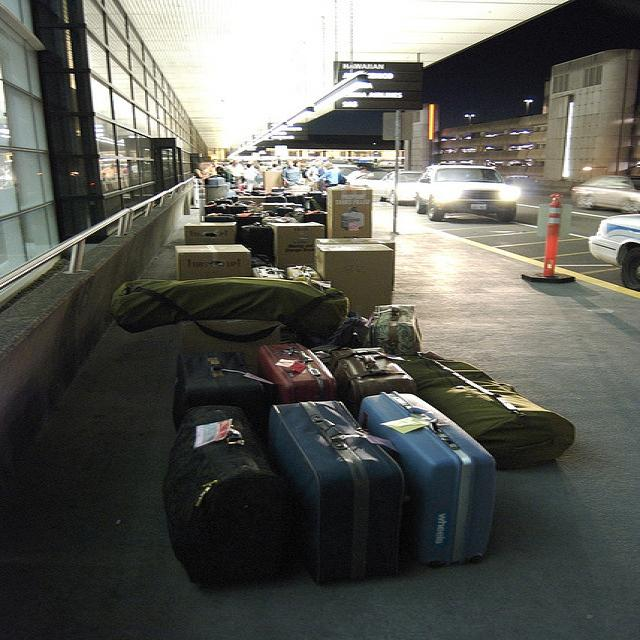Vehicle: (412, 165, 518, 222), (587, 212, 640, 292), (572, 176, 639, 212), (375, 173, 422, 205), (333, 163, 359, 180), (353, 162, 378, 172), (360, 172, 387, 180), (507, 176, 529, 179)
